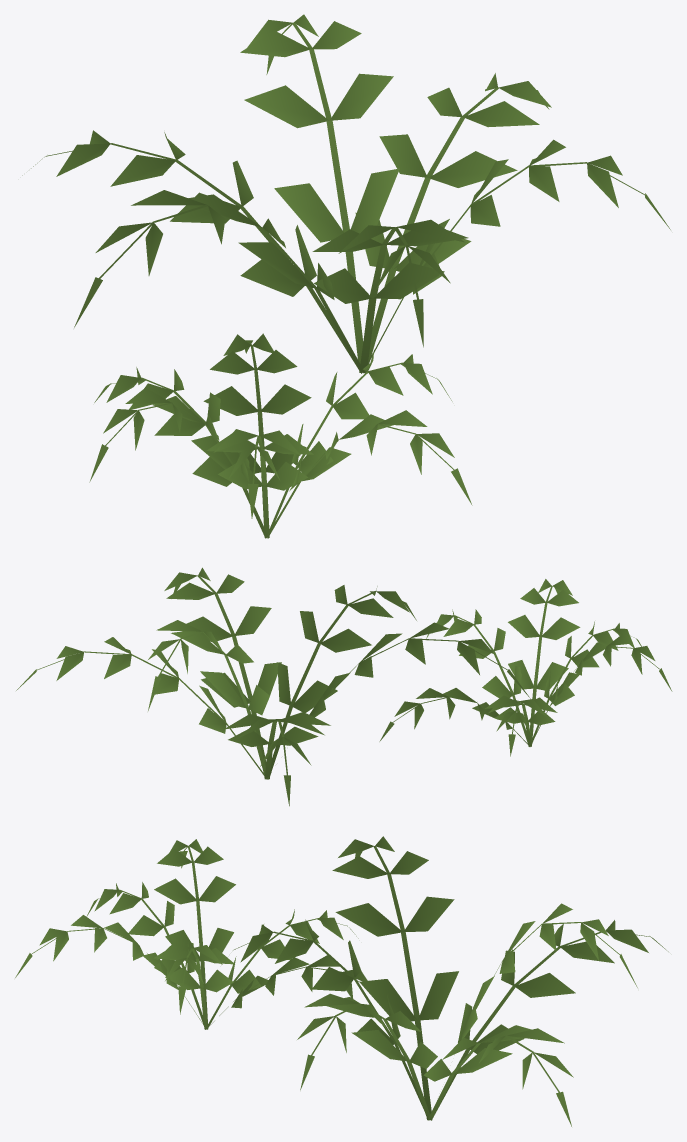
Rendered from ForestFern_93_lod1.glb.
3 renders of one model, top to bottom at view 1: azimuth 30°, elevation 25°; view 2: azimuth 150°, elevation 25°; view 3: azimuth 270°, elevation 25°, orthographic. The views are drawn at different scales.
Visible parts, largest first — view 1: ForestFern_93_lod1; view 2: ForestFern_93_lod1; view 3: ForestFern_93_lod1.
Boxes of the visible parts, box(x1,y1,x2,y2) form: ForestFern_93_lod1: box(22, 14, 670, 538); ForestFern_93_lod1: box(16, 567, 672, 806); ForestFern_93_lod1: box(15, 836, 668, 1126).
Size of the model in its own units: 1.36 by 0.5106 by 1.42.
